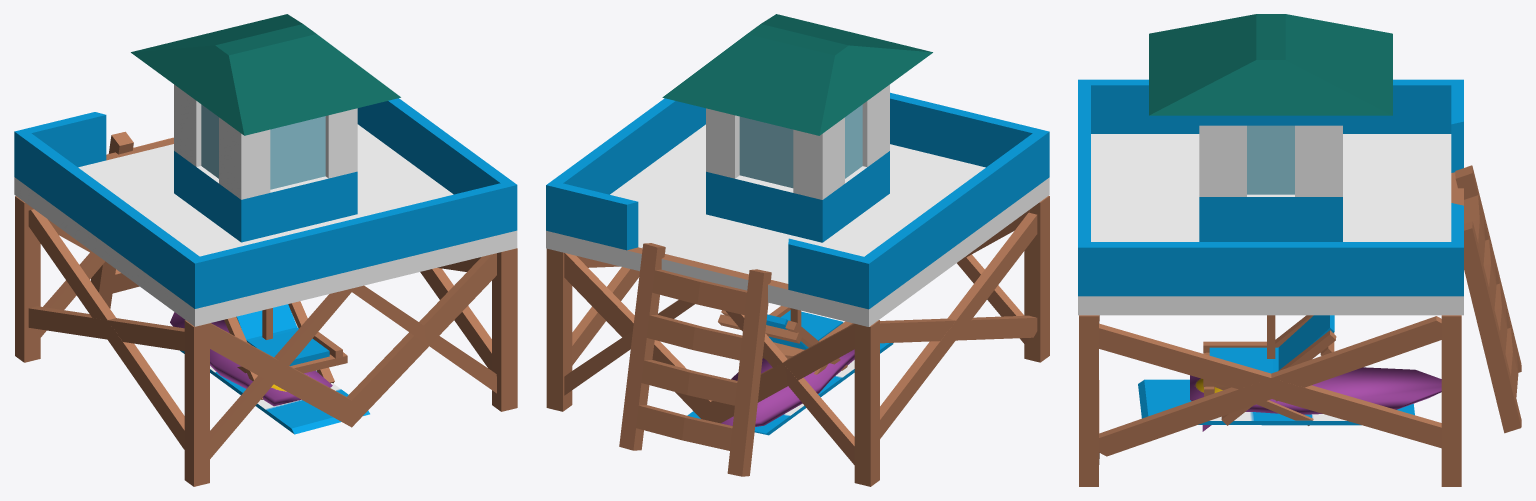
File: beachBuildings.fbx
The picture shows the model from 3 angles, left to right: view 1: azimuth 30°, elevation 25°; view 2: azimuth 150°, elevation 25°; view 3: azimuth 270°, elevation 25°; orthographic projection. The views are drawn at different scales.
Visible parts, largest first — view 1: Cube.004, Cube.001, Cube.002, Cube.005; view 2: Cube.004, Cube.001, Cube.005, Cube.002; view 3: Cube.004, Cube.001, Cube.005, Cube.002.
Boxes of the visible parts, box(x1,y1,x2,y2) form: Cube.004: box(14, 14, 517, 486); Cube.001: box(224, 301, 347, 399); Cube.002: box(180, 350, 369, 434); Cube.005: box(170, 312, 332, 406); Cube.004: box(546, 14, 1049, 486); Cube.001: box(718, 306, 853, 374); Cube.005: box(721, 349, 854, 426); Cube.002: box(687, 343, 893, 435); Cube.004: box(1078, 14, 1521, 486); Cube.001: box(1203, 315, 1336, 425); Cube.005: box(1190, 367, 1441, 431); Cube.002: box(1138, 379, 1414, 425).
Bounding box in the file's own units: 556 × 603 × 617.
1 material, 1 textured.
